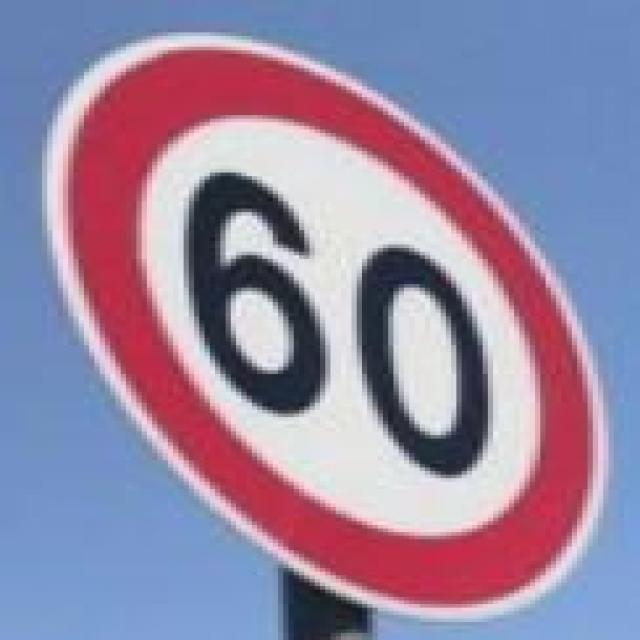speed_limit_60: (42, 25, 593, 622)
